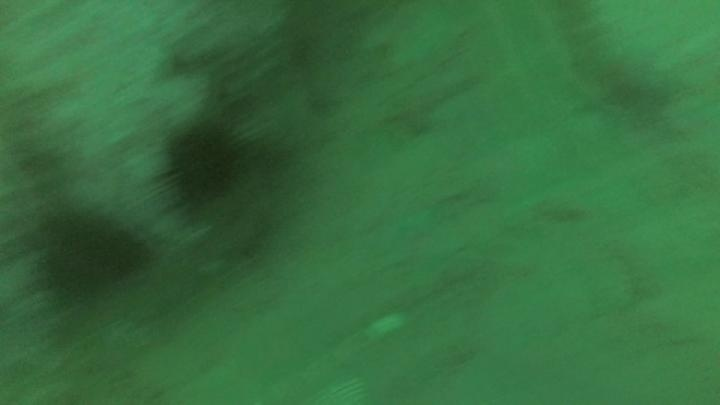echinus: (32, 205, 149, 304), (156, 114, 251, 213)
